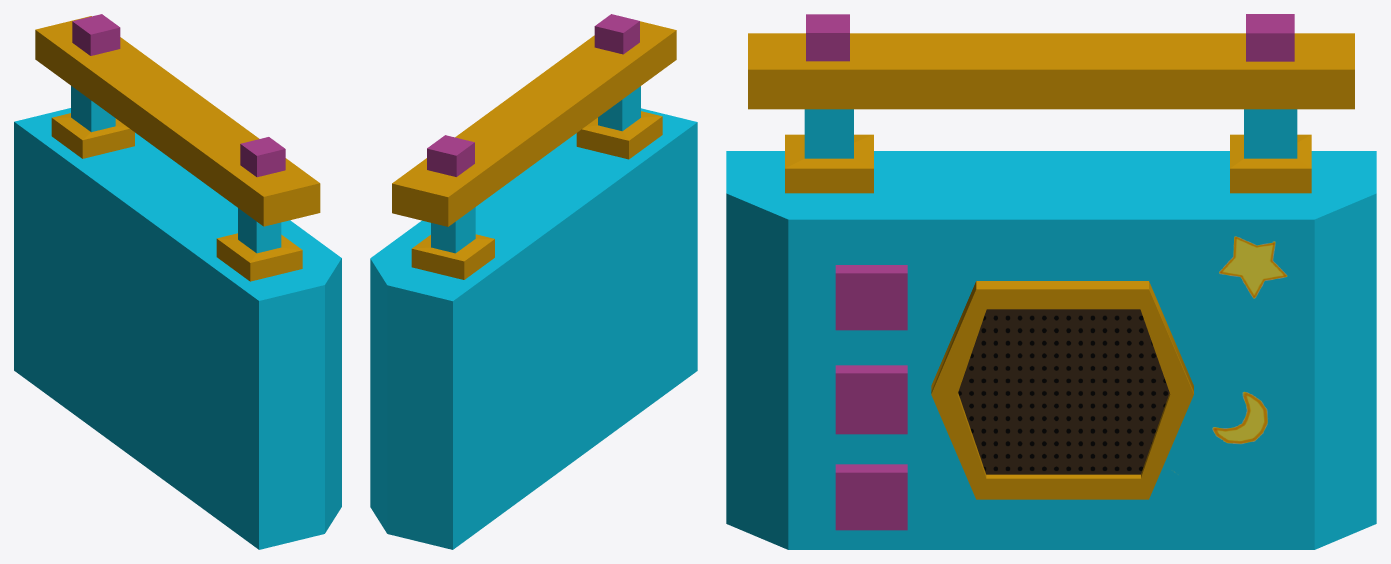
File: radio exsp.fbx
3 views of the same model, side by side, from view 1: azimuth 30°, elevation 25°; view 2: azimuth 150°, elevation 25°; view 3: azimuth 270°, elevation 25° (orthographic). The views are drawn at different scales.
Parts seen in each view (by area): view 1: pCube1, pCube2; view 2: pCube1, pCube2; view 3: pCube1, pCube2, pCube3.
Boxes of the visible parts, box(x1,y1,x2,y2) form: pCube1: box(14, 86, 341, 549); pCube2: box(35, 14, 320, 226); pCube1: box(370, 86, 697, 549); pCube2: box(392, 14, 676, 226); pCube1: box(726, 109, 1376, 549); pCube2: box(748, 14, 1354, 109); pCube3: box(931, 281, 1193, 499).
Bounding box in the file's own units: 7.89 × 23.12 × 28.11.
2 materials, 2 textured.
